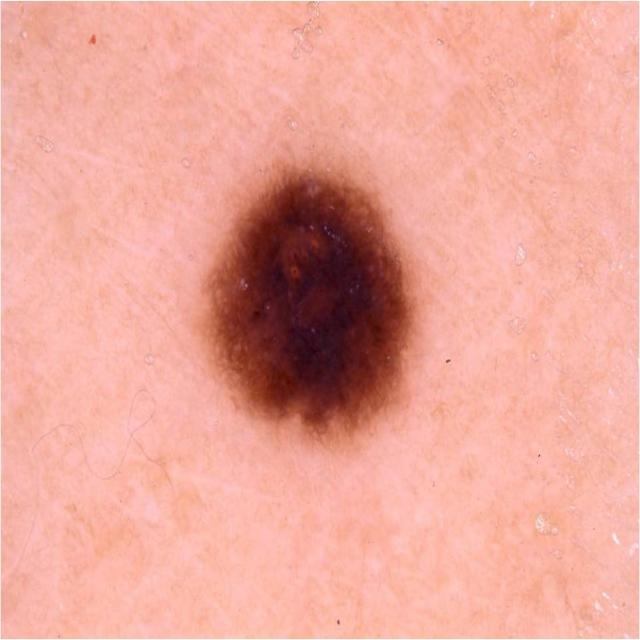Benign: (189, 155, 424, 459)
